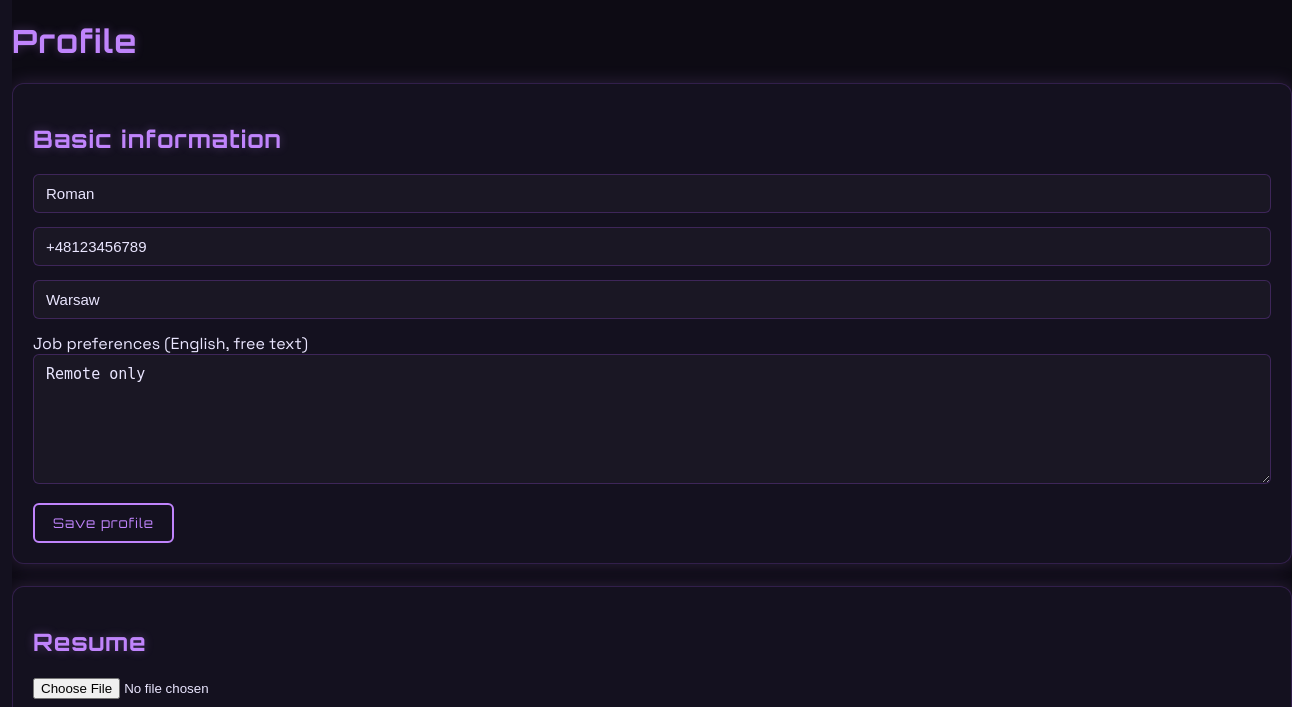
Test: ProfilePage › loads the profile and saves updates
The width and height of the screenshot is (1292, 707).
Replace the text in the 1st field with placeholder "Name" with "Roman Tester" at [652, 193], box left=33, top=174, right=1271, bottom=213
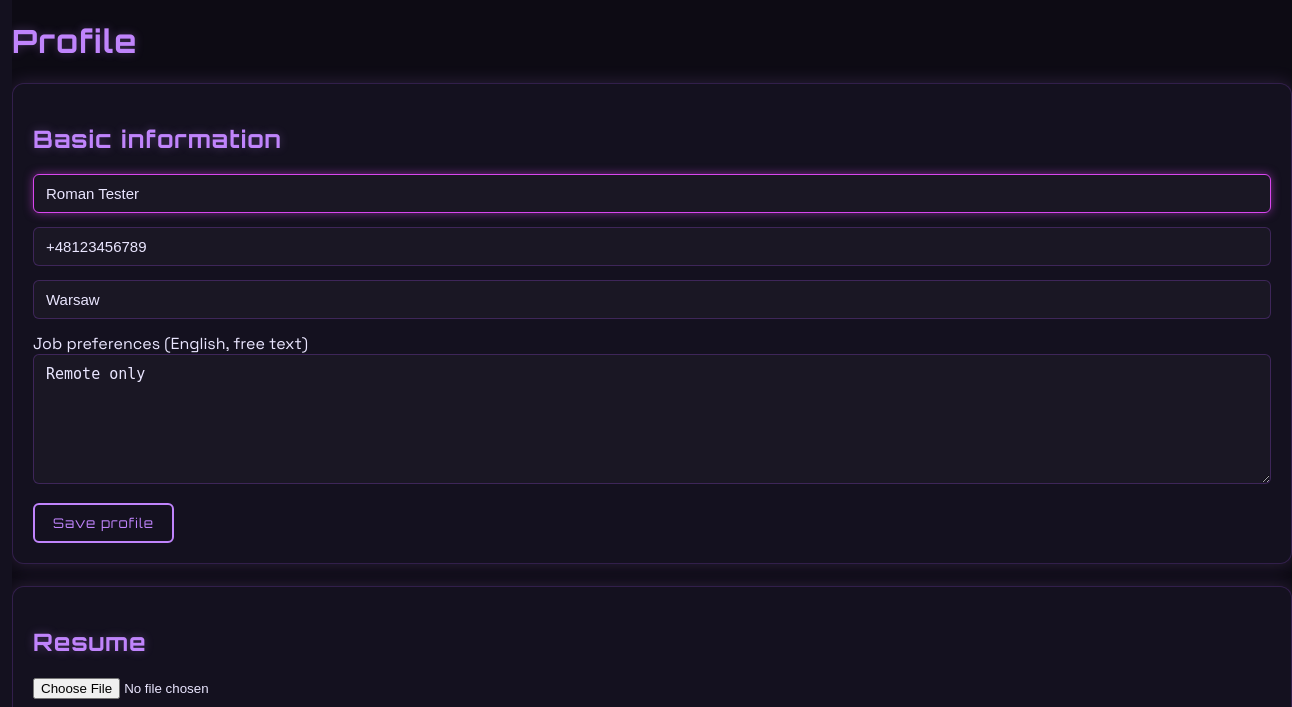
Replace the text in the 2nd field with placeholder "Phone" with "+48987654321" at [652, 246], box left=33, top=227, right=1271, bottom=266
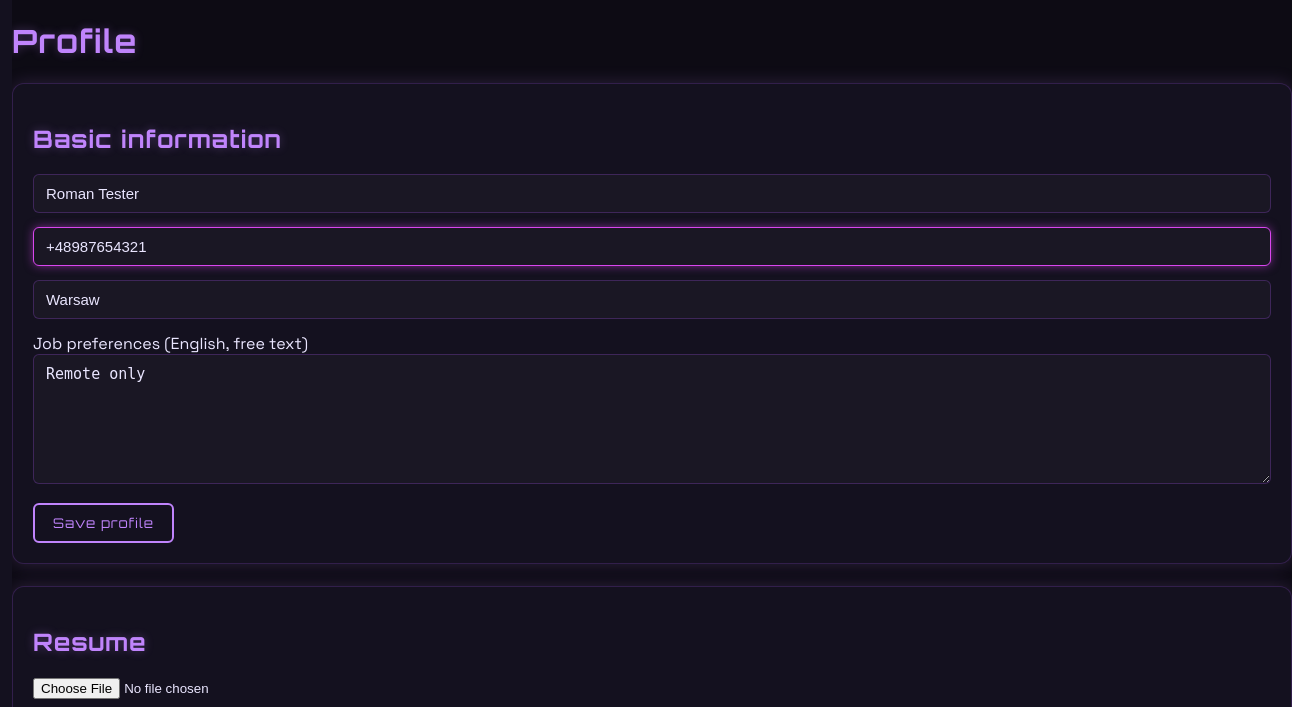
Replace the text in the 3rd field with placeholder "Location" with "Krakow" at [652, 299], box left=33, top=280, right=1271, bottom=319
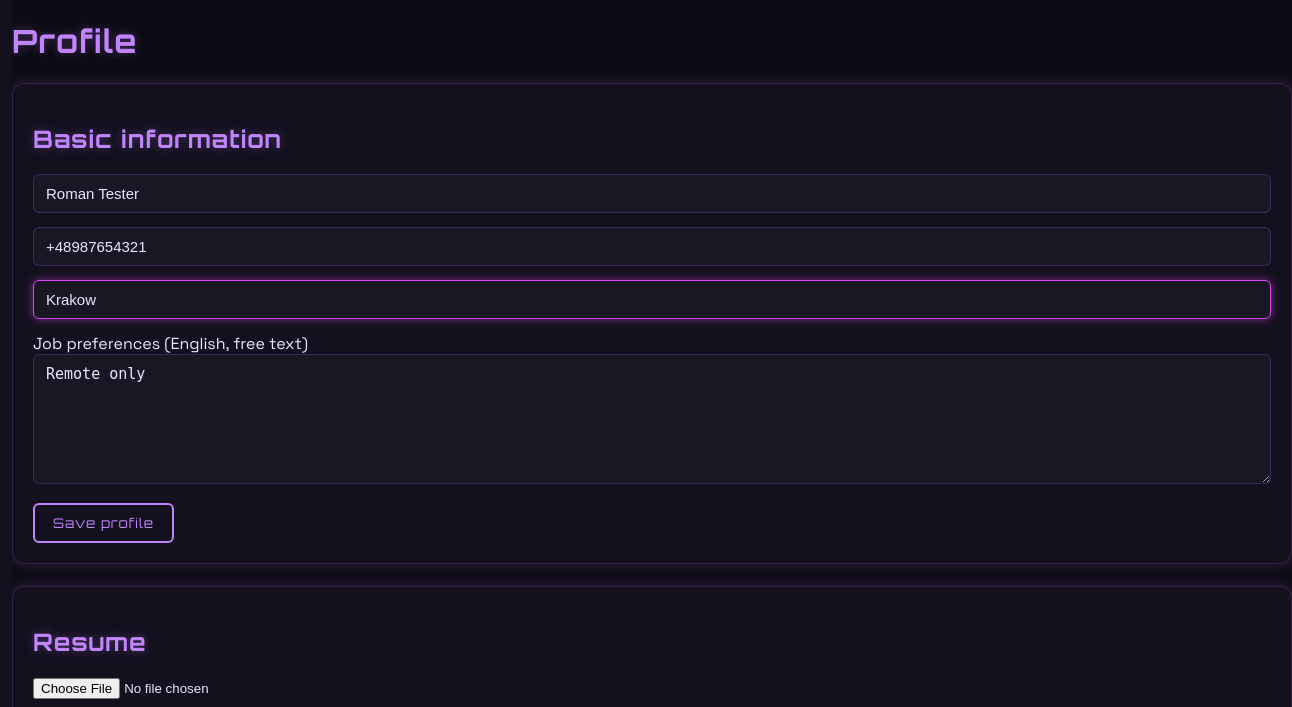
Replace the text in the text box showing "Remote only" with "Hybrid" at [652, 419], box left=33, top=354, right=1271, bottom=484
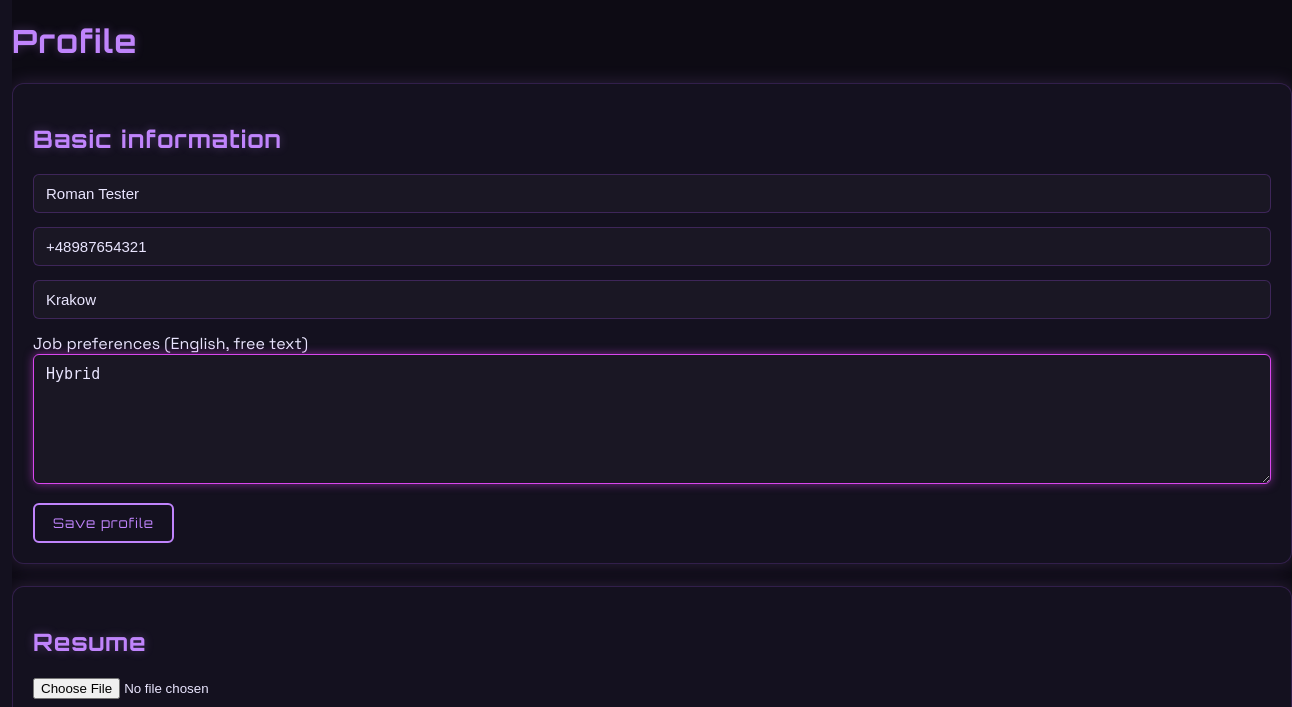
Click the button "Save profile".
click(104, 523)  # box left=33, top=503, right=174, bottom=543
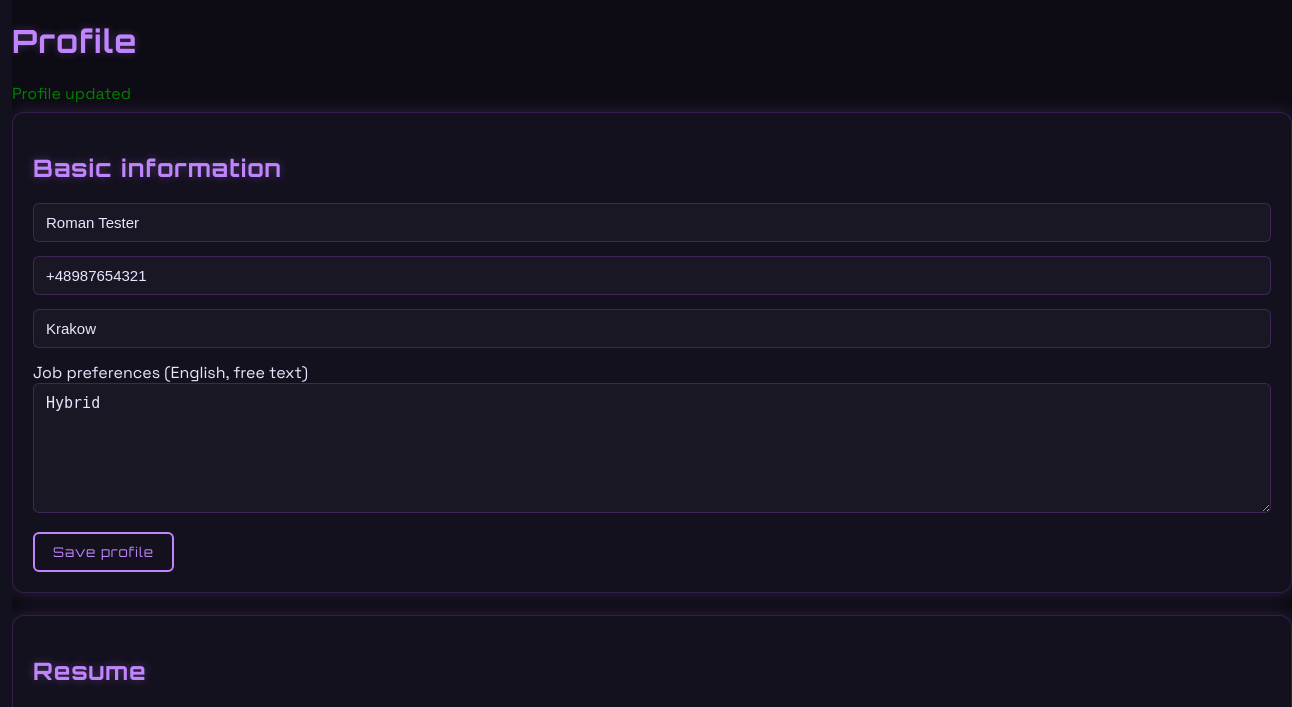
Result: the text "Profile updated" is shown at left=12, top=83, right=131, bottom=104
